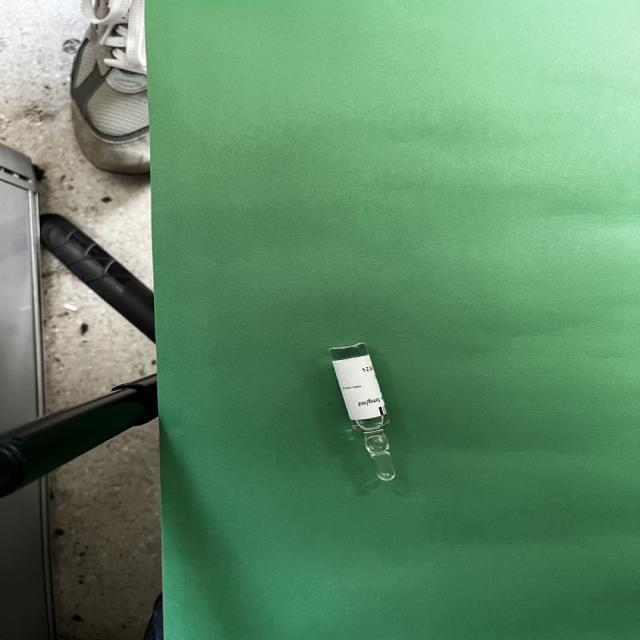Ampoules: (329, 342, 395, 482)
